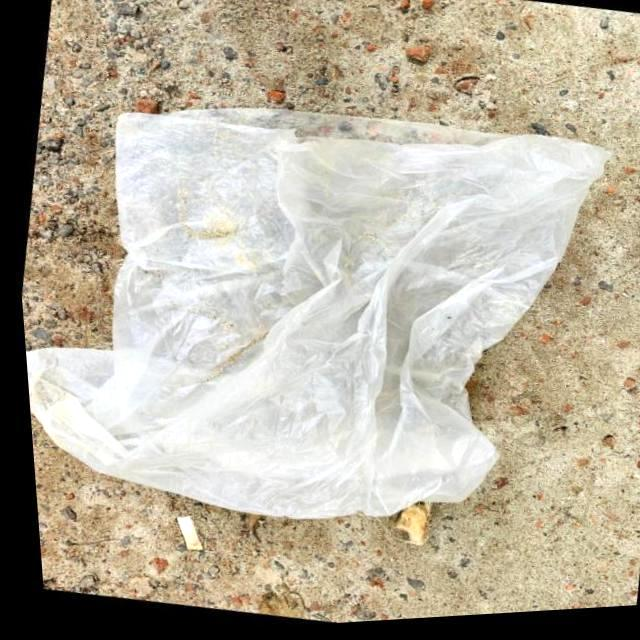polythene: (113, 107, 506, 481)
